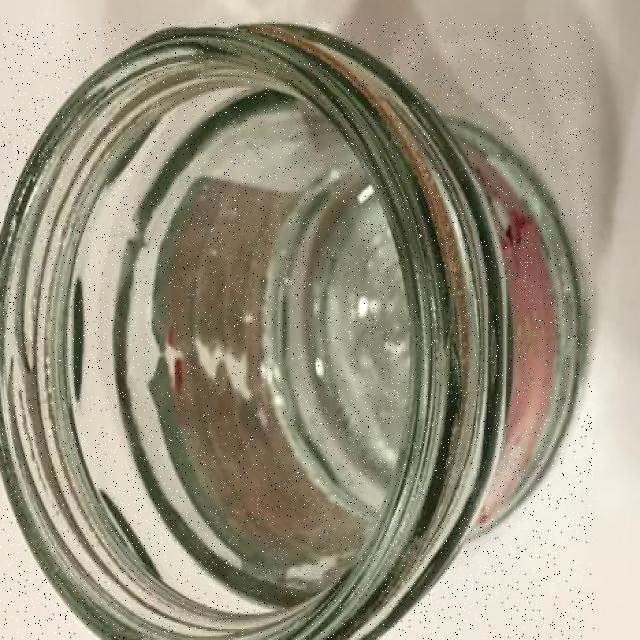glass: (0, 22, 594, 640)
